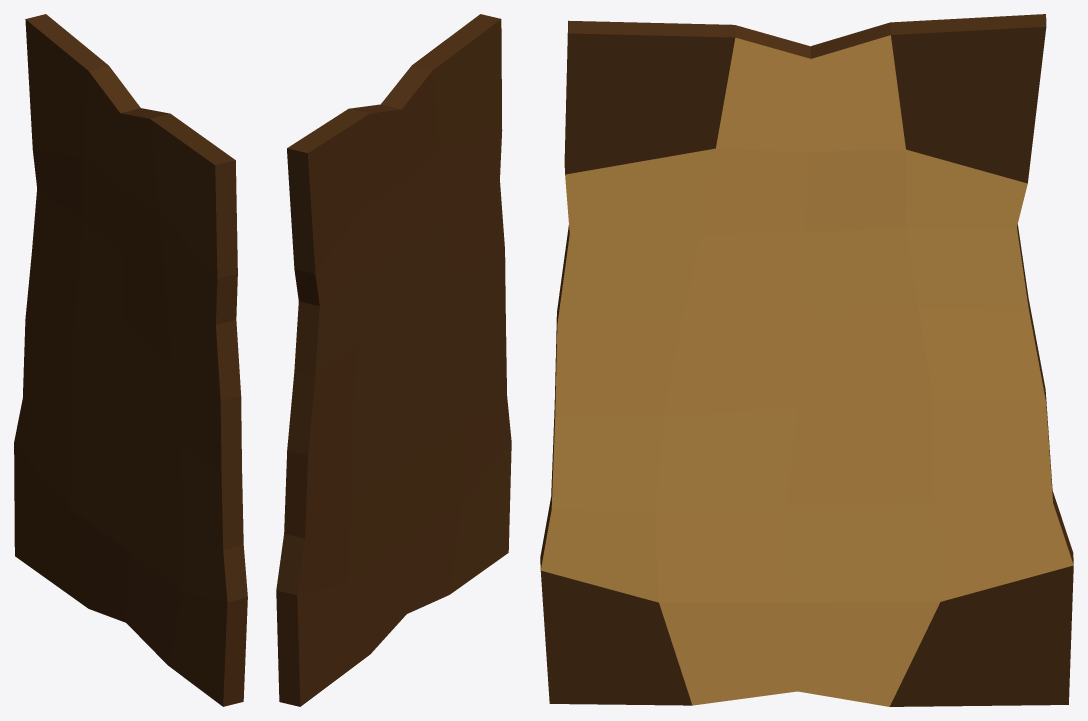
Rendered from rat_leather.fbx.
The picture shows the model from 3 angles, left to right: view 1: azimuth 30°, elevation 25°; view 2: azimuth 150°, elevation 25°; view 3: azimuth 270°, elevation 25°; orthographic projection. The views are drawn at different scales.
Parts seen in each view (by area): view 1: Cube; view 2: Cube; view 3: Cube.
Part boxes in pixels (box(x1,y1,x2,y2)): Cube: box(14, 14, 247, 706); Cube: box(276, 14, 511, 706); Cube: box(540, 14, 1073, 706).
Bounding box in the file's own units: 7.62 × 160 × 114.
